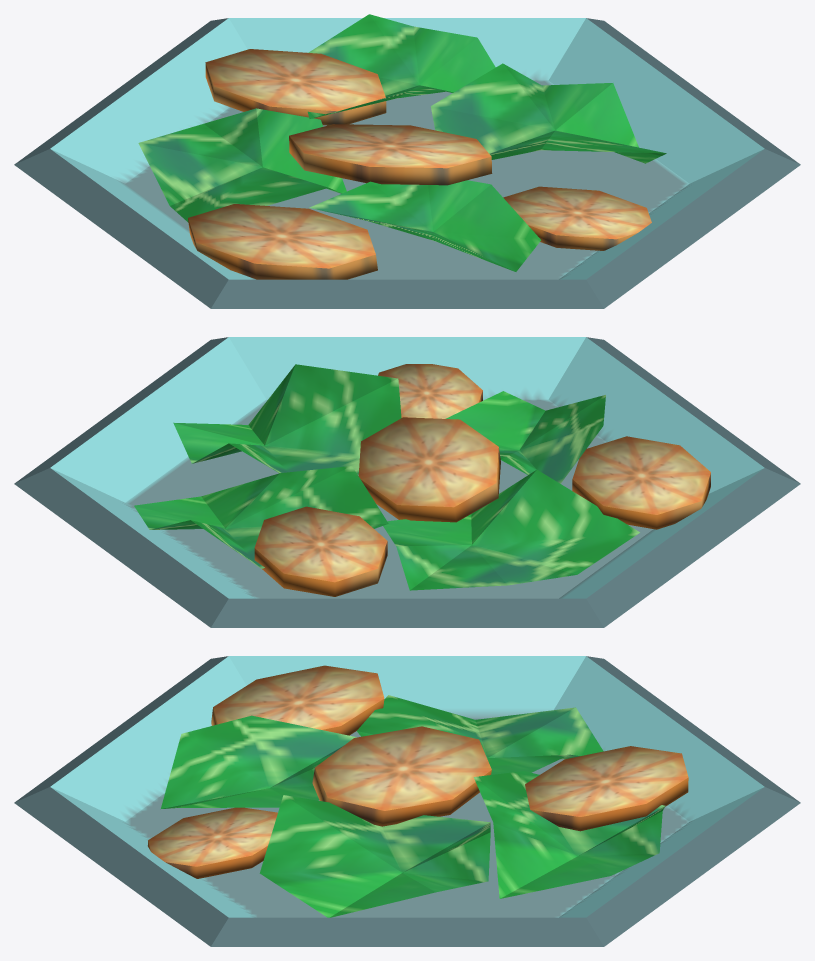
Rendered from PratoSalada.fbx.
3 views of the same model, one above another, from view 1: azimuth 30°, elevation 25°; view 2: azimuth 150°, elevation 25°; view 3: azimuth 270°, elevation 25° (orthographic).
Parts seen in each view (by area): view 1: PratoSalada, Alface.003, Alface.004, Salada.004, Alface.001, Salada.002, Salada.003, Alface.002, Salada.001; view 2: PratoSalada, Alface.003, Alface.004, Salada.002, Alface.002, Salada.004, Salada.003, Alface.001, Salada.001; view 3: PratoSalada, Alface.004, Salada.002, Alface.001, Alface.002, Salada.003, Alface.003, Salada.004, Salada.001.
Part boxes in pixels (box(x1,y1,x2,y2)): PratoSalada: box(14, 18, 800, 308); Alface.003: box(138, 108, 346, 222); Alface.004: box(431, 63, 666, 163); Salada.004: box(188, 204, 377, 279); Alface.001: box(309, 180, 540, 271); Salada.002: box(289, 124, 492, 185); Salada.003: box(205, 49, 386, 125); Alface.002: box(307, 14, 495, 118); Salada.001: box(503, 186, 651, 250); PratoSalada: box(14, 337, 800, 627); Alface.003: box(383, 470, 639, 590); Alface.004: box(173, 364, 401, 474); Salada.002: box(358, 417, 500, 522); Alface.002: box(134, 466, 388, 568); Salada.004: box(572, 436, 710, 529); Salada.003: box(254, 506, 387, 596); Alface.001: box(445, 391, 605, 483); Salada.001: box(378, 364, 482, 418); PratoSalada: box(14, 656, 800, 946); Alface.004: box(259, 795, 490, 917); Salada.002: box(312, 726, 491, 826); Alface.001: box(161, 715, 356, 808); Alface.002: box(473, 771, 665, 898); Salada.003: box(525, 746, 688, 831); Alface.003: box(357, 695, 603, 774); Salada.004: box(211, 665, 384, 735); Salada.001: box(147, 807, 277, 878).
Bounding box in the file's own units: 173 × 24.09 × 200.
